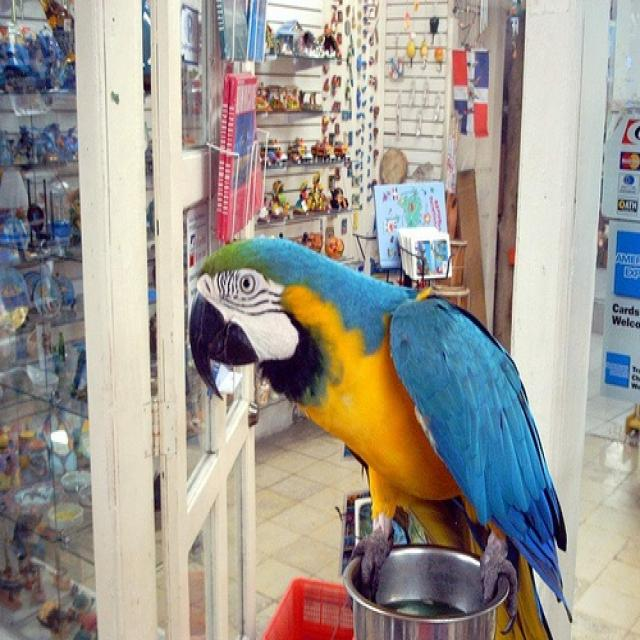bird: (191, 216, 573, 636)
